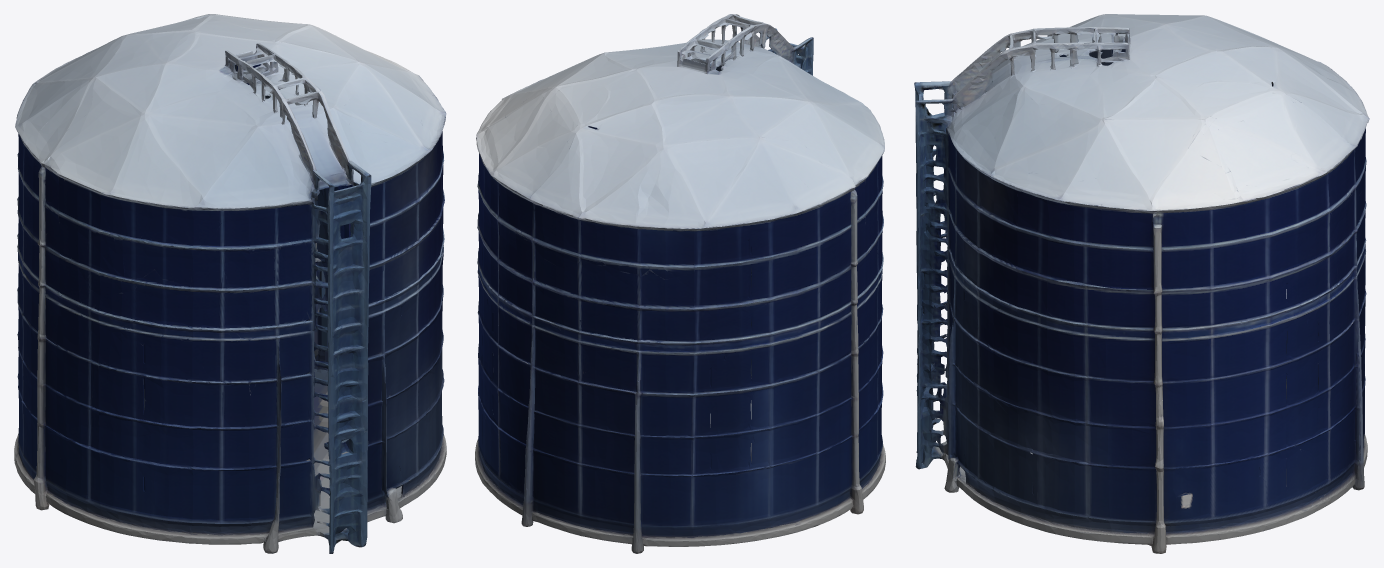
The picture shows the model from 3 angles, left to right: view 1: azimuth 30°, elevation 25°; view 2: azimuth 150°, elevation 25°; view 3: azimuth 270°, elevation 25°; orthographic projection. The views are drawn at different scales.
Parts seen in each view (by area): view 1: world; view 2: world; view 3: world.
Boxes of the visible parts, left/top/right/bottom form: world: left=14, top=14, right=446, bottom=553; world: left=475, top=14, right=885, bottom=553; world: left=914, top=14, right=1369, bottom=553.
Size of the model in its own units: 0.9445 by 0.9992 by 0.968.
Materials: 1 (1 with a texture image).
